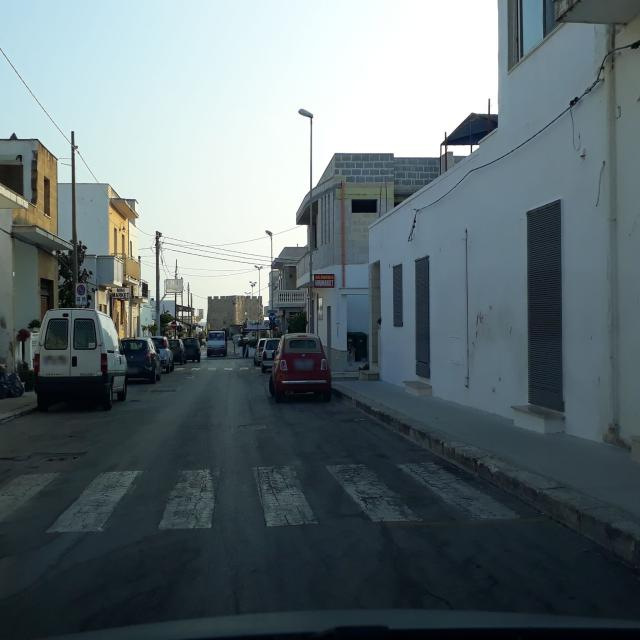forb_stopping: (77, 285, 85, 296)
